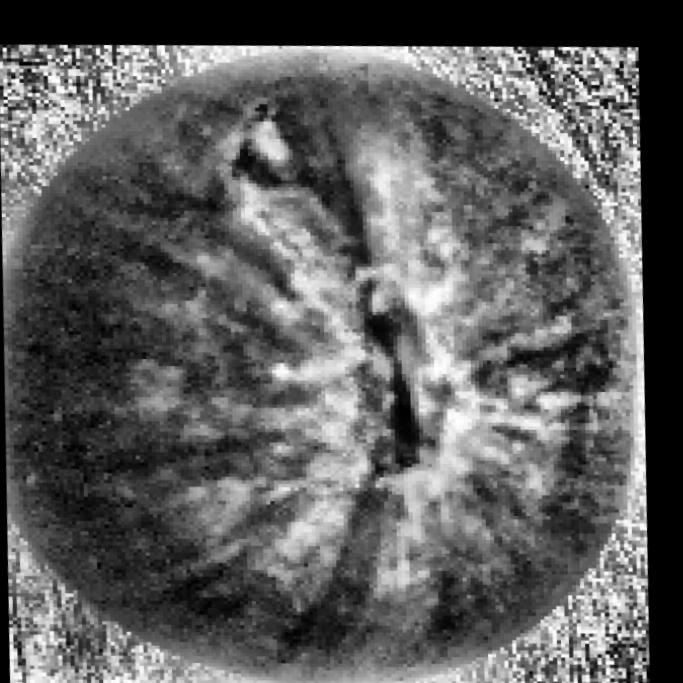qualityHazelnut: (0, 0, 679, 683)
